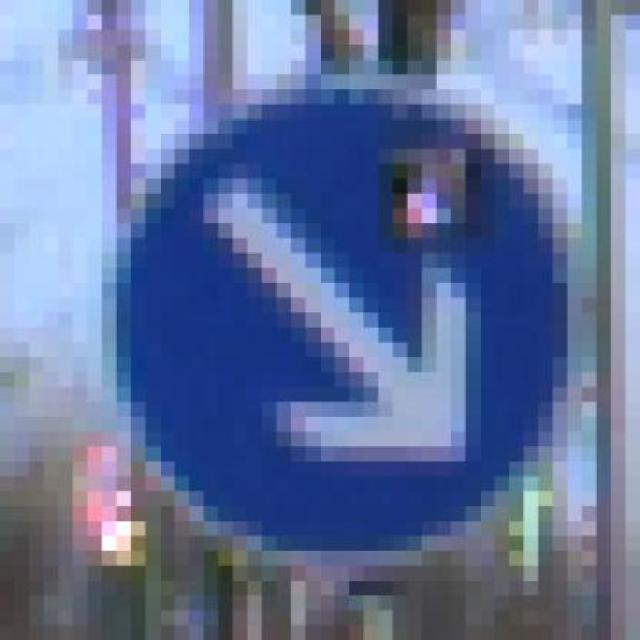Keep-Right: (58, 74, 612, 595)
